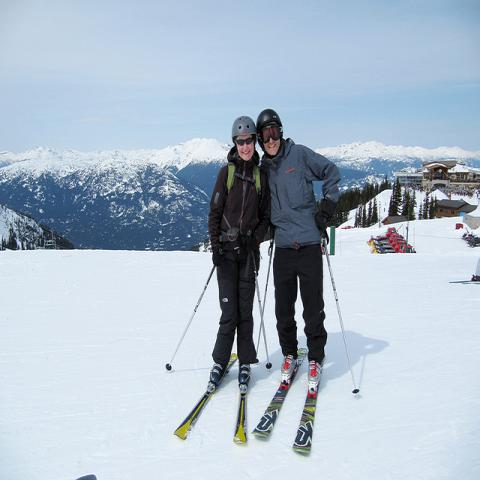truck: (370, 238, 403, 254), (373, 226, 398, 243), (373, 232, 401, 245)
